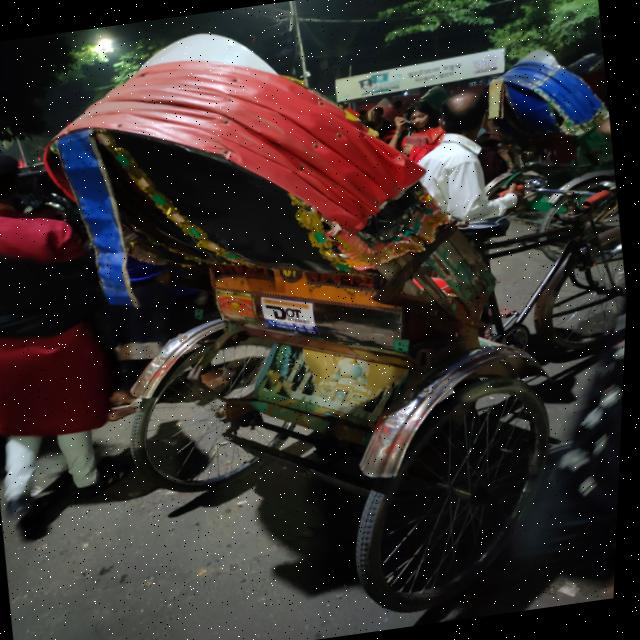rikshaw: (11, 0, 640, 640)
